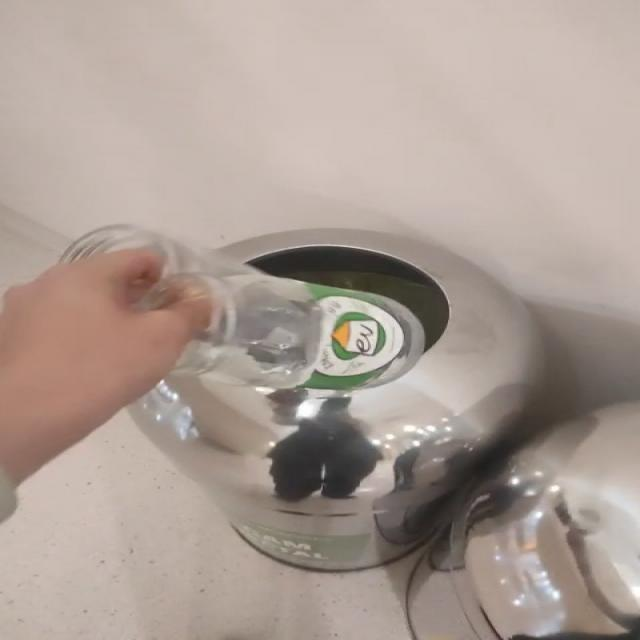glass: (60, 225, 424, 393)
